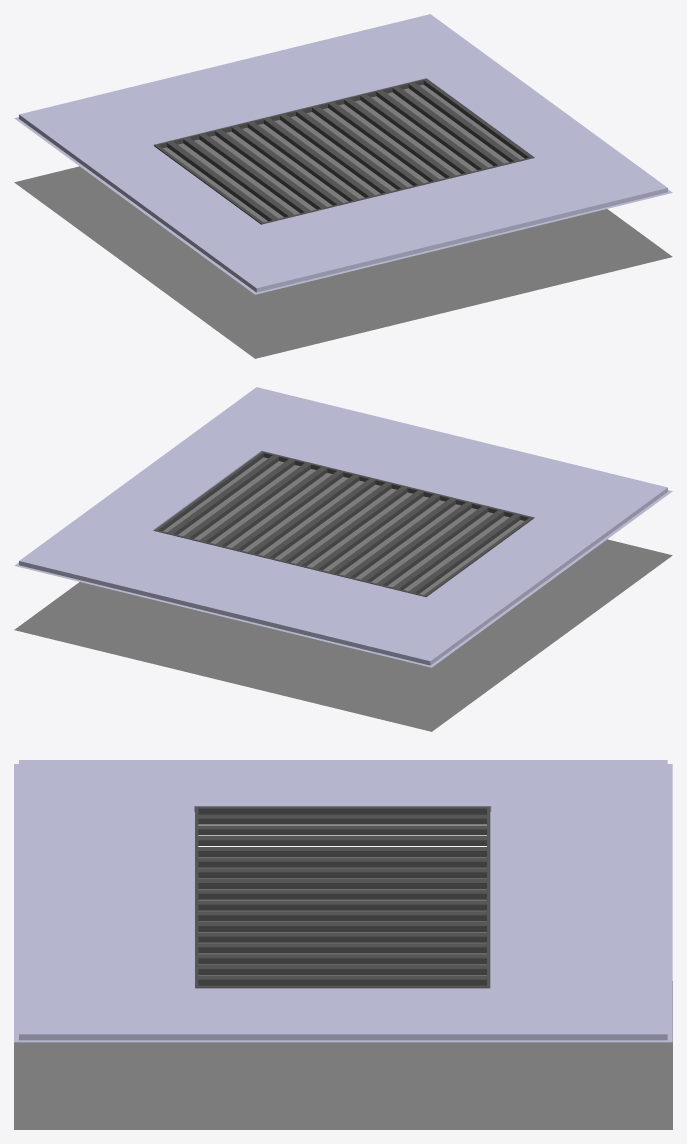
Rendered from FloorGrateNarrow.fbx.
3 views of the same model, one above another, from view 1: azimuth 30°, elevation 25°; view 2: azimuth 150°, elevation 25°; view 3: azimuth 270°, elevation 25° (orthographic). The views are drawn at different scales.
Parts seen in each view (by area): view 1: FloorGrateNarrow; view 2: FloorGrateNarrow; view 3: FloorGrateNarrow.
Boxes of the visible parts, x1=… form: FloorGrateNarrow: x1=14, y1=14, x2=672, y2=358; FloorGrateNarrow: x1=14, y1=387, x2=672, y2=731; FloorGrateNarrow: x1=14, y1=760, x2=672, y2=1129.
Bounding box in the file's own units: 200 × 31.33 × 200.
